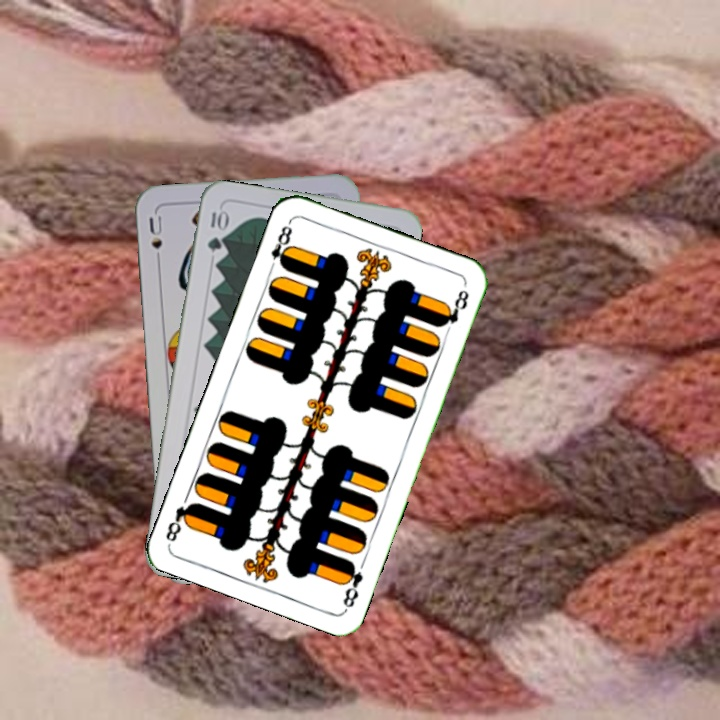E8: (265, 217, 296, 274), (338, 557, 366, 612)
G10: (203, 205, 229, 254)
SU: (145, 211, 165, 269)
